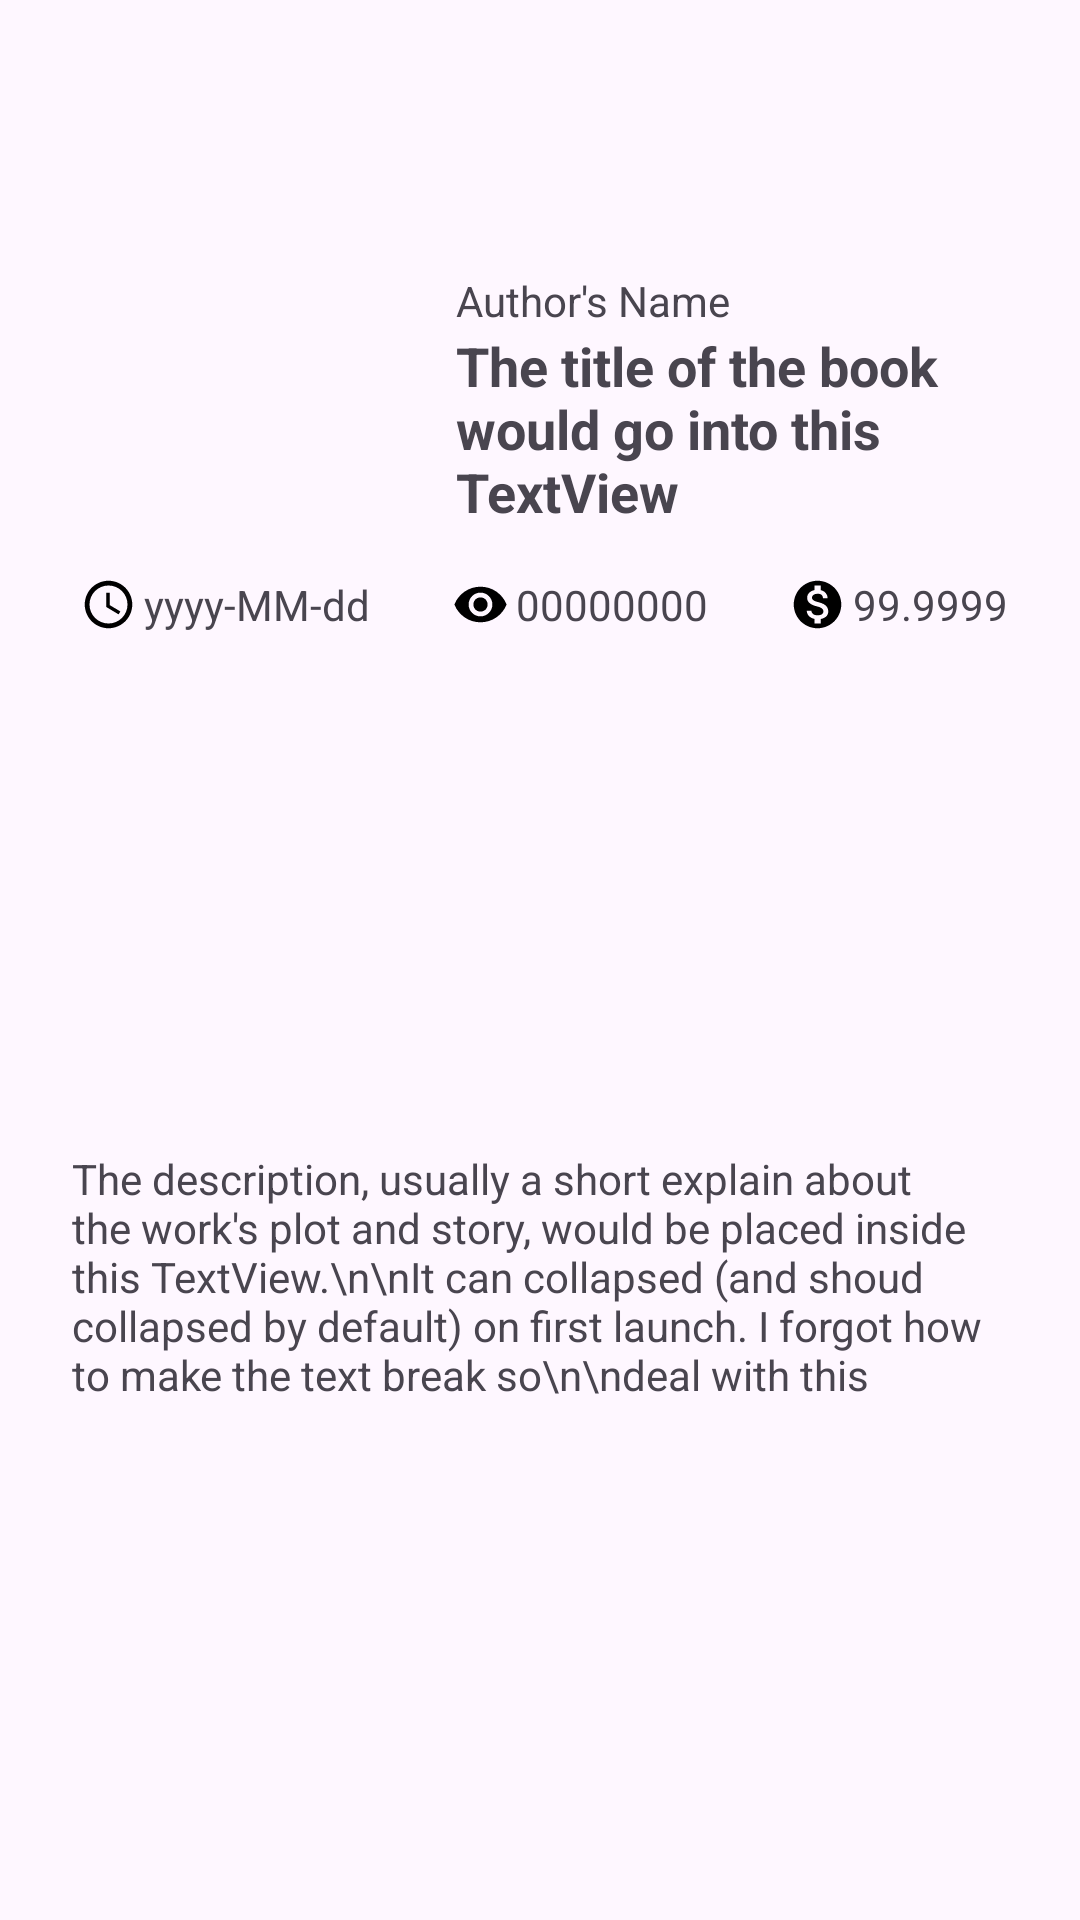

Screen size 1080w x 1920h. Icon name, then its center in pixels as (x=x, y=y):
access time: (x=108, y=604)
monetization on: (x=817, y=604)
